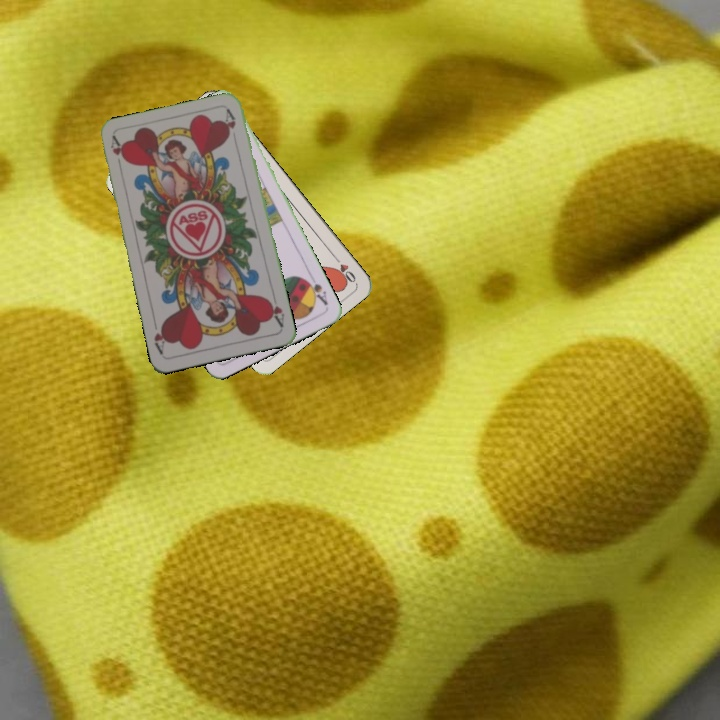HA: (264, 290, 287, 330), (106, 133, 128, 173)
HO: (329, 251, 359, 285)
SA: (301, 271, 331, 308)
